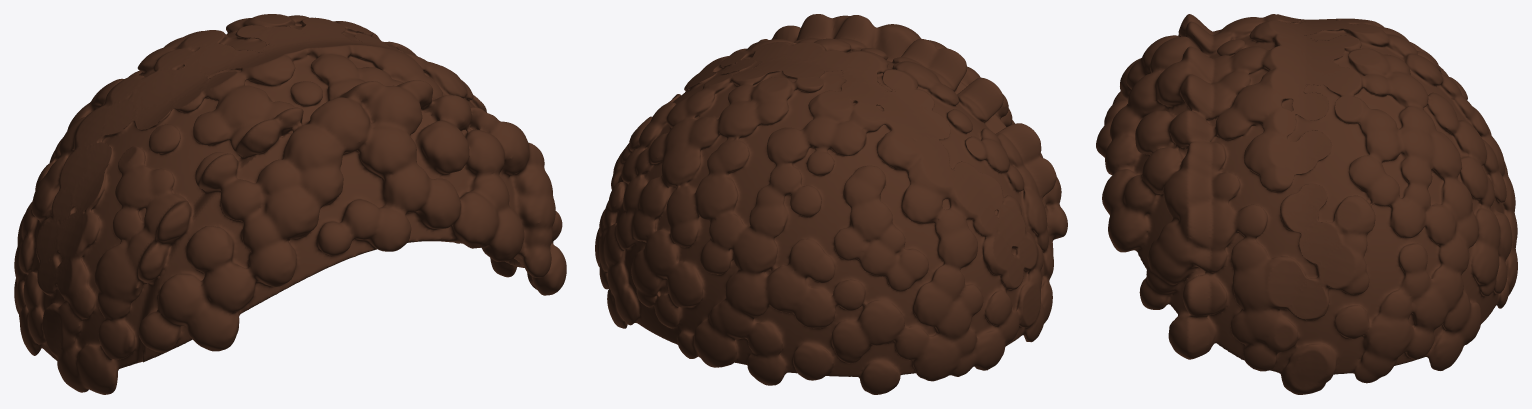
File: Masculine-afro-tank-pashmina250-hair.glb
The picture shows the model from 3 angles, left to right: view 1: azimuth 30°, elevation 25°; view 2: azimuth 150°, elevation 25°; view 3: azimuth 270°, elevation 25°; orthographic projection. The views are drawn at different scales.
Visible parts, largest first — view 1: 226 hair / Hair / dense coiled texture235.001; view 2: 226 hair / Hair / dense coiled texture235.001; view 3: 226 hair / Hair / dense coiled texture235.001.
Part boxes in pixels (x1=…): 226 hair / Hair / dense coiled texture235.001: x1=14, y1=14, x2=566, y2=394; 226 hair / Hair / dense coiled texture235.001: x1=595, y1=14, x2=1067, y2=394; 226 hair / Hair / dense coiled texture235.001: x1=1096, y1=14, x2=1517, y2=394.
Size of the model in its own units: 1.08 by 0.649 by 0.9455.
